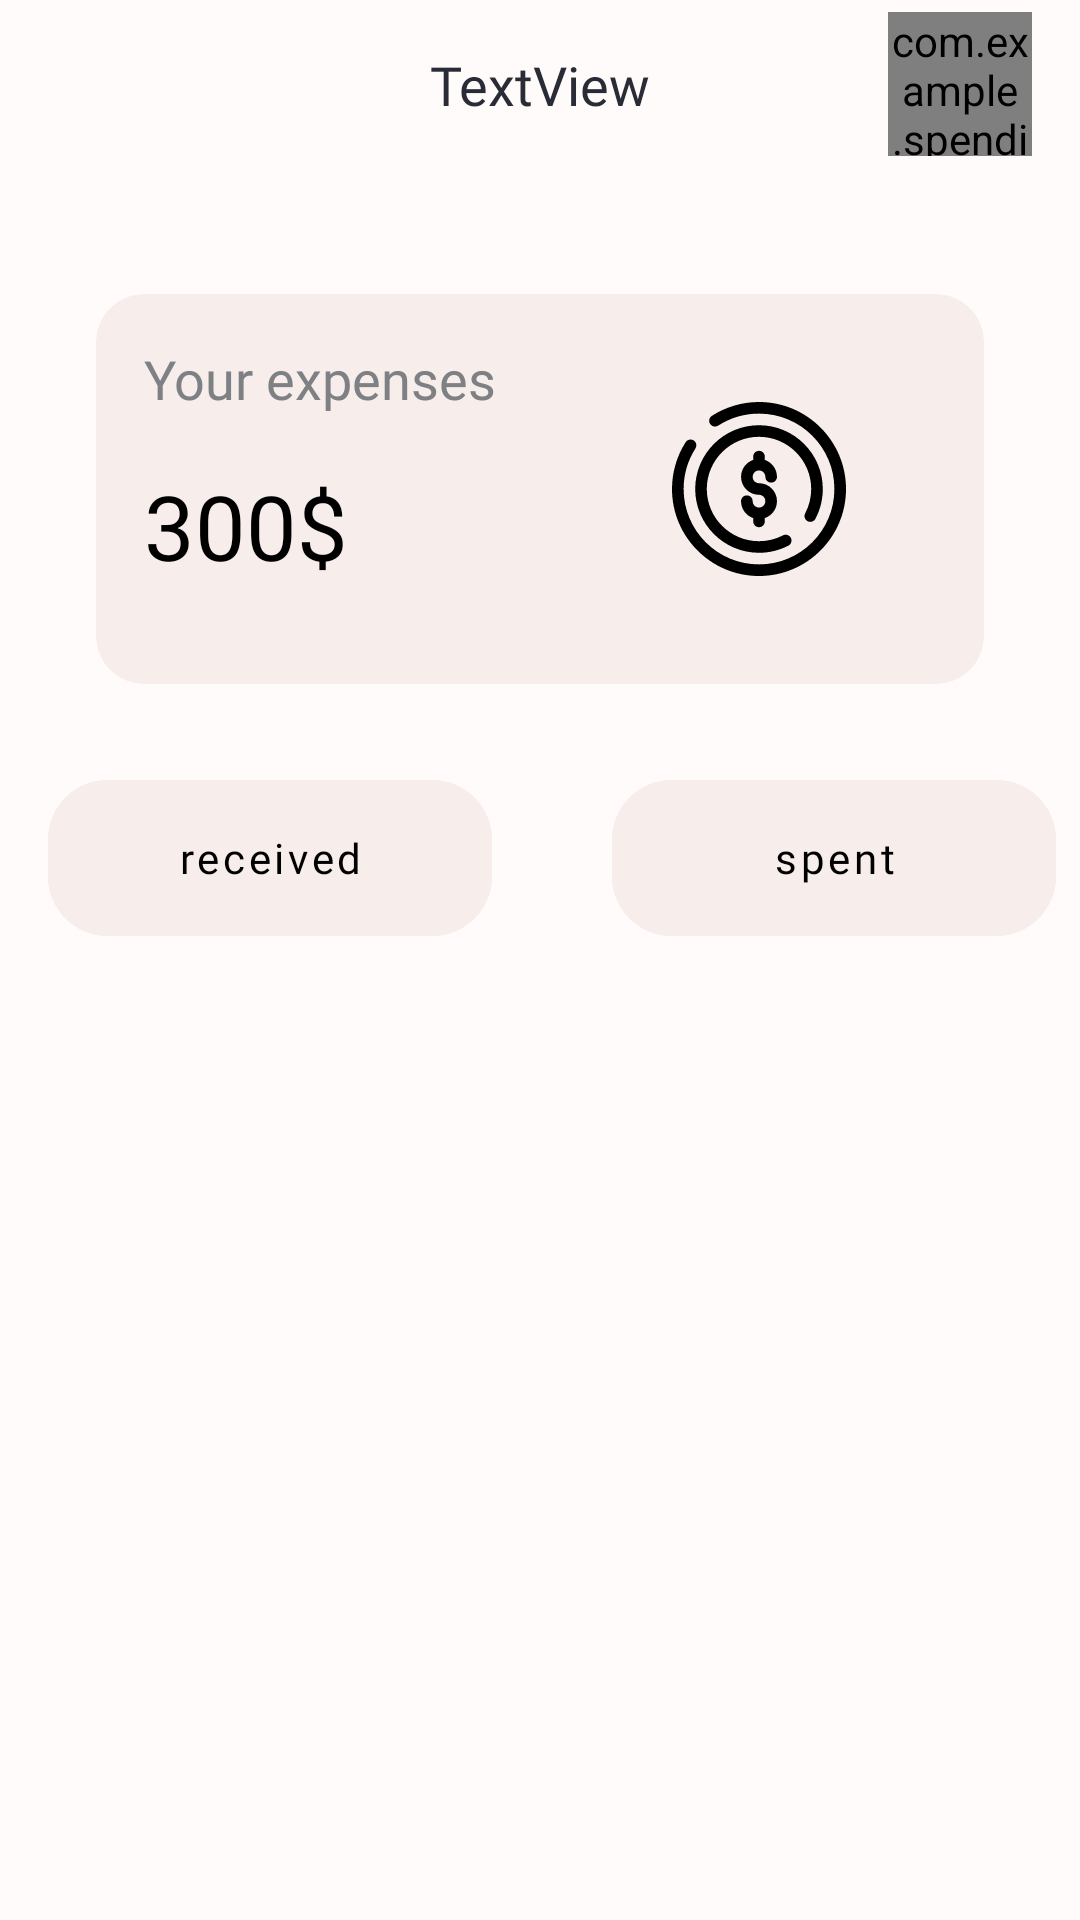

Icons on this 1080px×1920px Android screen, each with its box as (x1=x1, y1=y1, x2=x2, y2=y2):
business cash coin dollar: (x1=672, y1=402, x2=846, y2=576)
